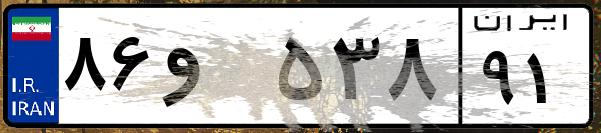1: (525, 38, 570, 115)
3: (330, 28, 385, 110)
5: (270, 28, 330, 110)
6: (110, 28, 158, 98)
8: (385, 28, 445, 110), (57, 26, 110, 100)
9: (475, 38, 525, 113)
و: (158, 20, 270, 120)
